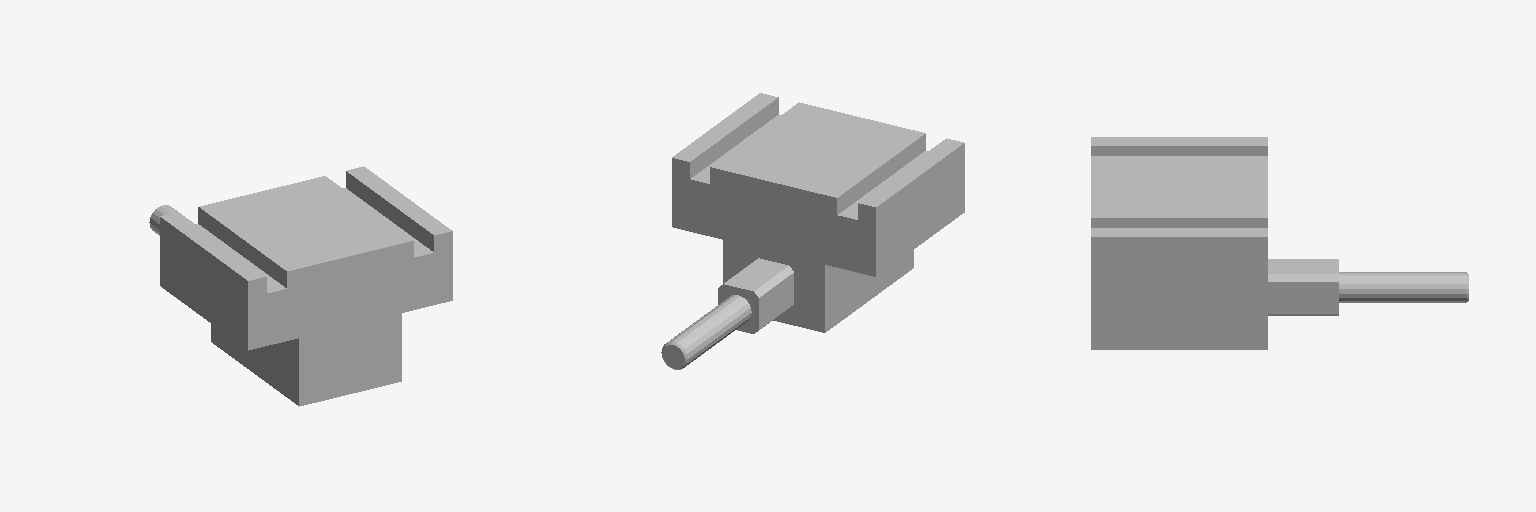
The model's file is Z_axis.obj.
3 views of the same model, side by side, from view 1: azimuth 30°, elevation 25°; view 2: azimuth 150°, elevation 25°; view 3: azimuth 270°, elevation 25° (orthographic).
Parts seen in each view (by area): view 1: Solid1; view 2: Solid1; view 3: Solid1.
Boxes of the visible parts, box(x1,y1,x2,y2) form: Solid1: box(149, 166, 452, 406); Solid1: box(661, 93, 964, 369); Solid1: box(1091, 137, 1468, 349).
Size of the model in its own units: 200 by 129 by 320.